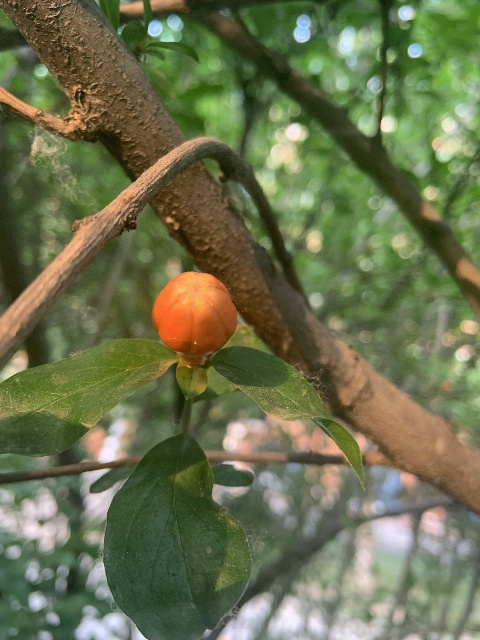bud: (152, 270, 236, 357)
